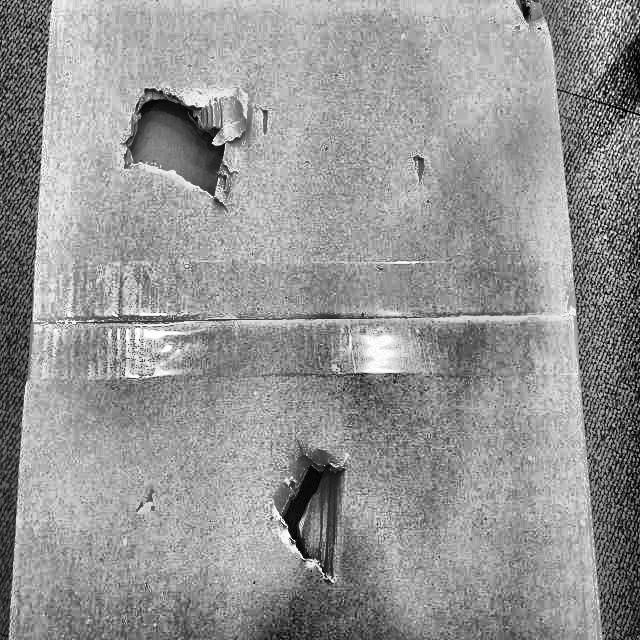box: (2, 0, 616, 639)
hole: (119, 81, 249, 215), (274, 442, 352, 588)
